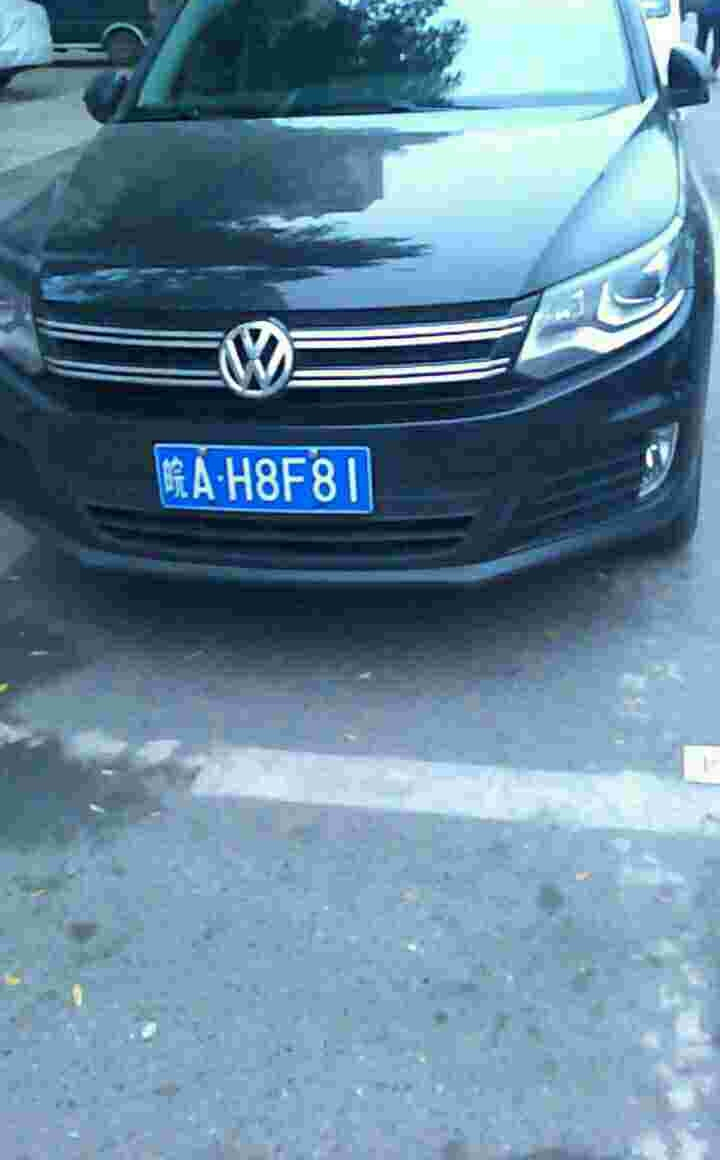license_plate: (157, 444, 394, 511)
